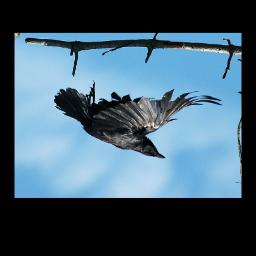Crow: (55, 79, 226, 160)
